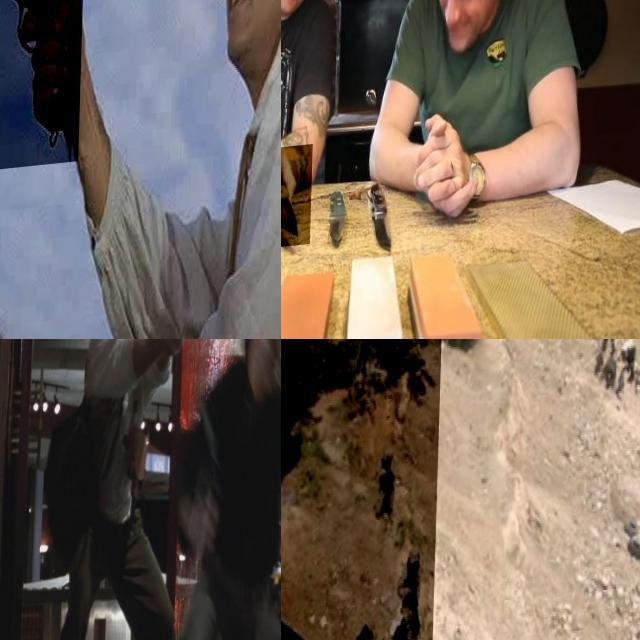-: (281, 150, 315, 255)
gun-knife-thesis - v11 Yolov5 augmented: (281, 339, 469, 640), (0, 0, 88, 176), (169, 339, 199, 372)
